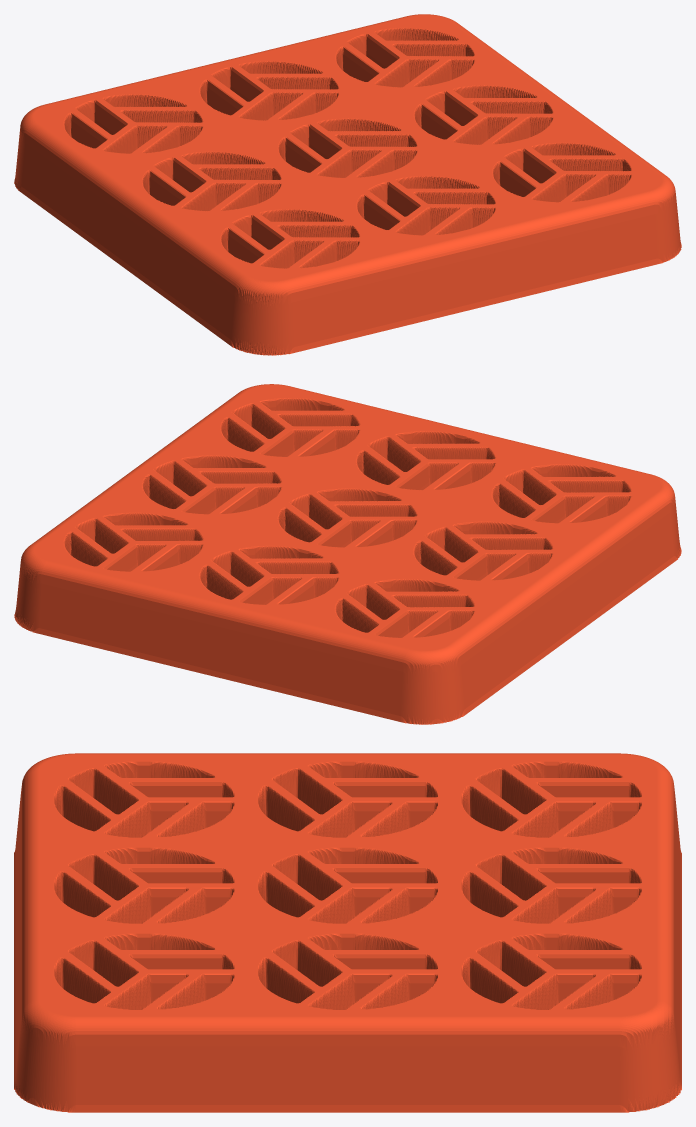
Rendered from mold.glb.
3 views of the same model, one above another, from view 1: azimuth 30°, elevation 25°; view 2: azimuth 150°, elevation 25°; view 3: azimuth 270°, elevation 25° (orthographic). The views are drawn at different scales.
Visible parts, largest first — view 1: geometry_0; view 2: geometry_0; view 3: geometry_0.
Boxes of the visible parts, x1,y1,x2,y2 form: geometry_0: [14, 14, 681, 355]; geometry_0: [14, 384, 681, 724]; geometry_0: [14, 753, 681, 1112].
Size of the model in its own units: 0.0964 by 0.0136 by 0.0964.
